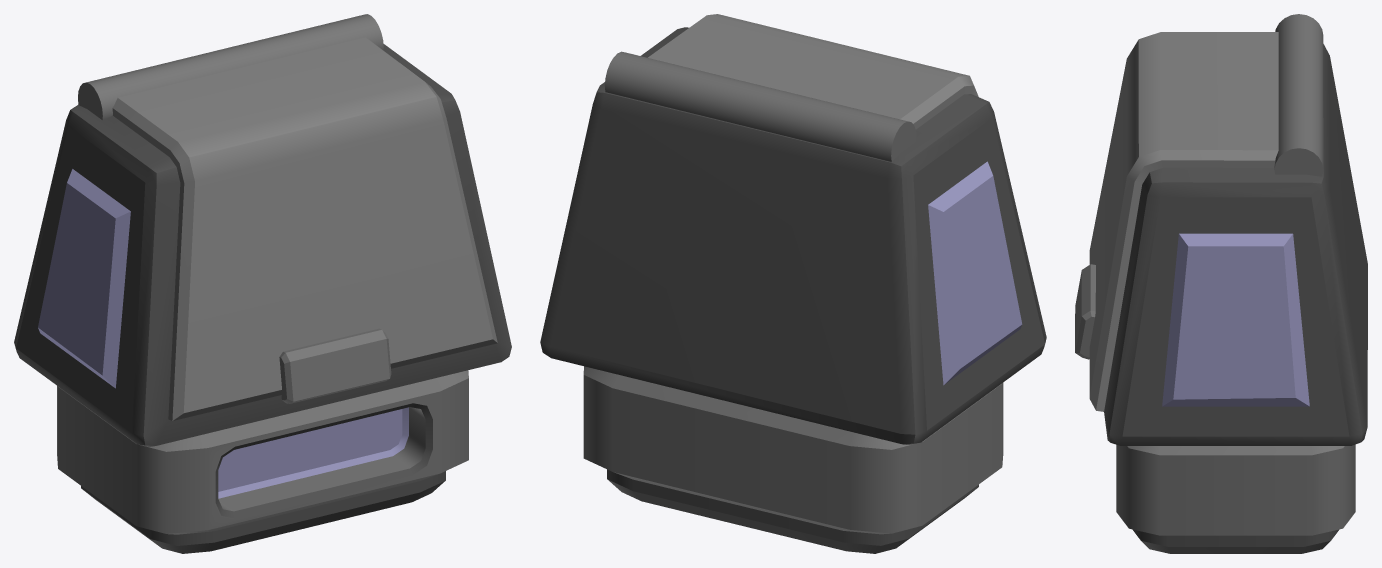
The model's file is Refrigerateur_Compact_Ferme.fbx.
3 views of the same model, side by side, from view 1: azimuth 30°, elevation 25°; view 2: azimuth 150°, elevation 25°; view 3: azimuth 270°, elevation 25° (orthographic). The views are drawn at different scales.
Visible parts, largest first — view 1: Refrigerateur_Compact_Ferme; view 2: Refrigerateur_Compact_Ferme; view 3: Refrigerateur_Compact_Ferme.
Boxes of the visible parts, left/top/right/bottom form: Refrigerateur_Compact_Ferme: left=14, top=14, right=511, bottom=553; Refrigerateur_Compact_Ferme: left=540, top=14, right=1046, bottom=553; Refrigerateur_Compact_Ferme: left=1075, top=14, right=1367, bottom=553.
Size of the model in its own units: 69 by 70.79 by 45.97.
